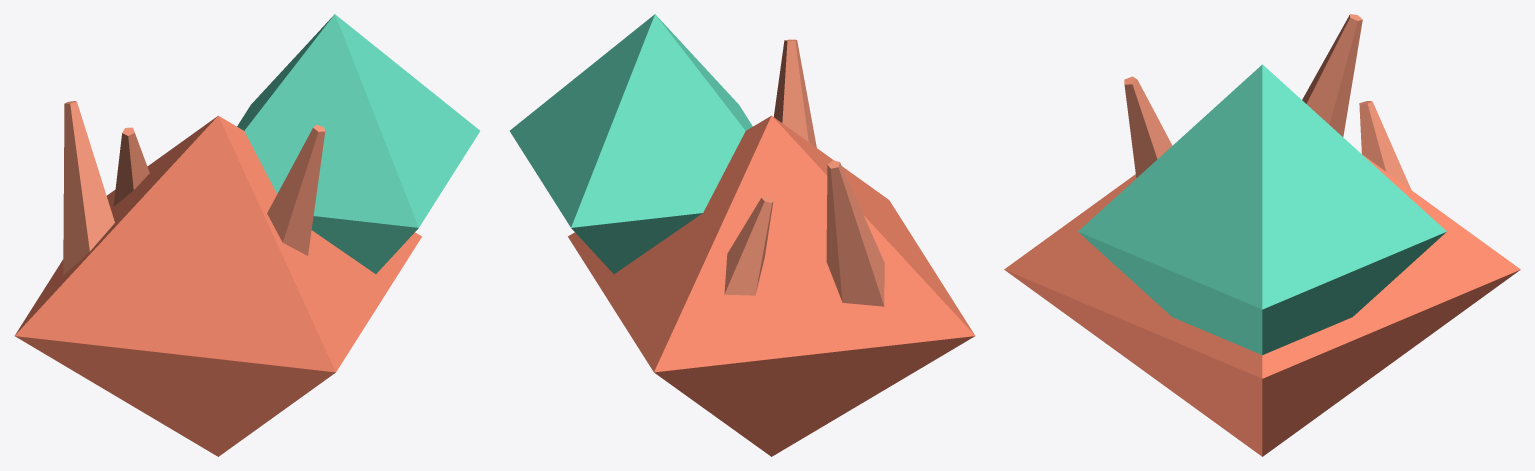
File: coral.glb
The picture shows the model from 3 angles, left to right: view 1: azimuth 30°, elevation 25°; view 2: azimuth 150°, elevation 25°; view 3: azimuth 270°, elevation 25°; orthographic projection. The views are drawn at different scales.
Parts seen in each view (by area): view 1: coral; view 2: coral; view 3: coral.
Boxes of the visible parts, <box> form: coral: <box>14,14,479,456</box>; coral: <box>510,14,975,456</box>; coral: <box>1004,14,1520,456</box>.
Size of the model in its own units: 0.8 by 0.68 by 0.7.
